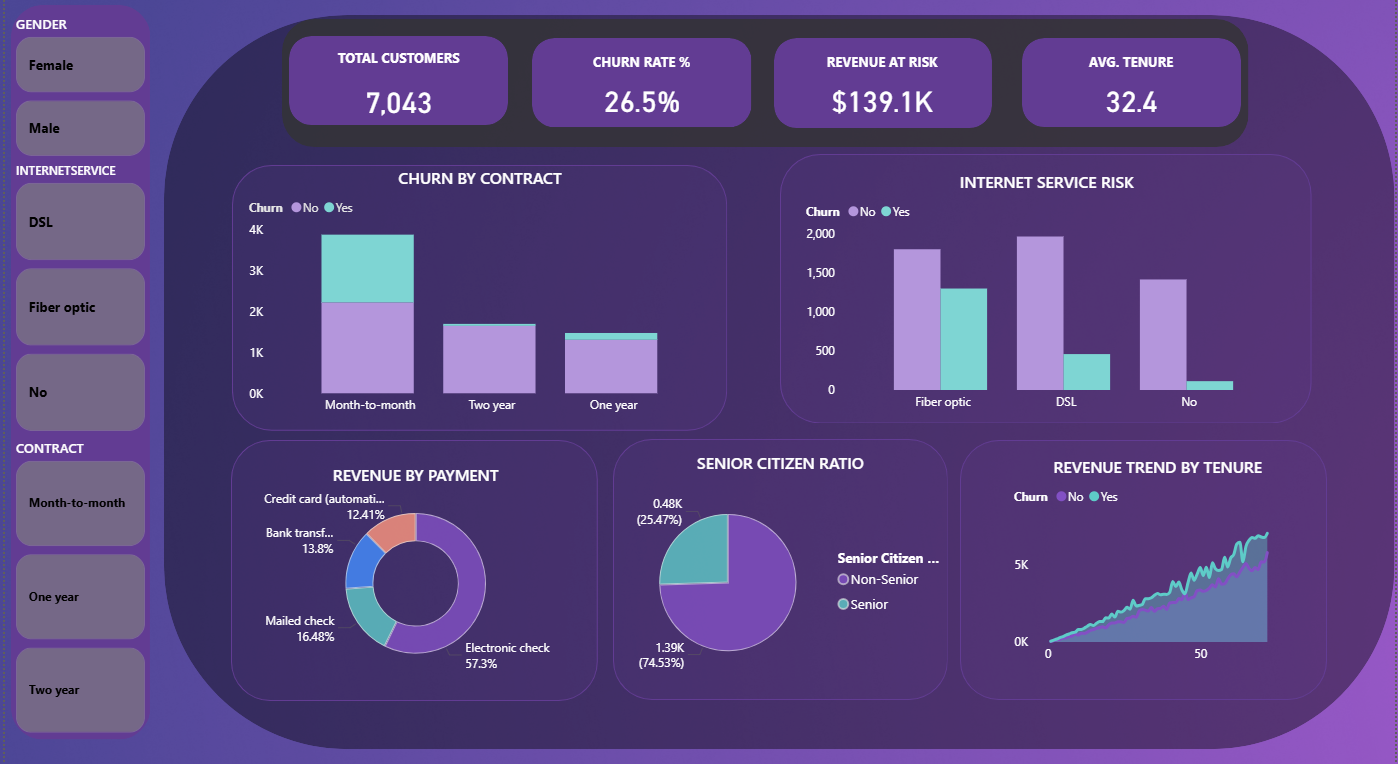

Layout of this report page (visuals, bound fields, positions):
{"tool":"powerbi","page":{"name":"Page 1","canvas":[1400,800],"ordinal":0},"visuals":[{"type":"shape","box":[6.3,14.8,140.4,740.1],"z":0},{"type":"shape","box":[160.2,25.7,1239.8,739.7],"z":1000},{"type":"shape","box":[228.6,176.1,498.9,267.8],"z":1500},{"type":"shape","box":[278.7,29.3,973.8,129],"z":2000},{"type":"shape","box":[962.2,453.4,369.8,262],"z":2062},{"type":"shape","box":[612.6,452.4,337.5,262.9],"z":2125},{"type":"shape","box":[228.1,452.9,369.5,262.9],"z":2250},{"type":"shape","box":[781.3,165.1,535.5,271.4],"z":2500},{"type":"shape","box":[531.4,48.8,221.2,90],"z":3000},{"type":"shape","box":[775,48,219.6,90.8],"z":4000},{"type":"shape","box":[1025,48,220.7,89.7],"z":5000},{"type":"textbox","box":[531.4,58.6,221.2,33.6],"z":6000},{"type":"textbox","box":[774.3,58.6,220.1,29.3],"z":7000},{"type":"card","fields":{"Values":["WA_Fn-UseC_-Telco-Customer-Churn.Churn Rate"]},"box":[531.4,84.6,221.2,53.1],"z":8000},{"type":"card","fields":{"Values":["WA_Fn-UseC_-Telco-Customer-Churn.Revenue at Risk"]},"box":[774.3,84.6,220.1,53.1],"z":9000},{"type":"card","fields":{"Values":["WA_Fn-UseC_-Telco-Customer-Churn.Avg.\\ Tenure"]},"box":[1024.7,84.6,220.7,52.4],"z":10000},{"type":"columnChart","title":"CHURN BY CONTRACT","fields":{"Category":["WA_Fn-UseC_-Telco-Customer-Churn.Contract"],"Y":["Count(WA_Fn-UseC_-Telco-Customer-Churn.customerID)"],"Series":["WA_Fn-UseC_-Telco-Customer-Churn.Churn"]},"box":[240.9,178.5,475.6,258],"z":11000},{"type":"clusteredColumnChart","title":"INTERNET SERVICE RISK","fields":{"Category":["WA_Fn-UseC_-Telco-Customer-Churn.InternetService"],"Y":["Count(WA_Fn-UseC_-Telco-Customer-Churn.customerID)"],"Series":["WA_Fn-UseC_-Telco-Customer-Churn.Churn"]},"box":[802.1,182.2,495.2,250.7],"z":12000},{"type":"donutChart","title":"REVENUE BY PAYMENT","fields":{"Category":["WA_Fn-UseC_-Telco-Customer-Churn.PaymentMethod"],"Y":["Count(WA_Fn-UseC_-Telco-Customer-Churn.customerID)"]},"box":[255.5,477.2,315.7,219.6],"z":13000},{"type":"pieChart","title":"SENIOR CITIZEN RATIO","fields":{"Category":["WA_Fn-UseC_-Telco-Customer-Churn.Senior Citizen Label"],"Y":["Count(WA_Fn-UseC_-Telco-Customer-Churn.customerID)"]},"box":[612.6,465.9,337.5,242.1],"z":14000},{"type":"areaChart","title":"REVENUE TREND BY TENURE","fields":{"Category":["WA_Fn-UseC_-Telco-Customer-Churn.tenure"],"Y":["Avg(WA_Fn-UseC_-Telco-Customer-Churn.TotalCharges)"],"Series":["WA_Fn-UseC_-Telco-Customer-Churn.Churn"]},"box":[1011.5,469.8,299.8,217.5],"z":15000},{"type":"advancedSlicerVisual","title":"GENDER","fields":{"Values":["WA_Fn-UseC_-Telco-Customer-Churn.gender"]},"box":[6.3,25.3,140.4,148.9],"z":16000},{"type":"advancedSlicerVisual","title":"INTERNETSERVICE","fields":{"Values":["WA_Fn-UseC_-Telco-Customer-Churn.InternetService"]},"box":[6.1,173.6,140.6,278.8],"z":17000},{"type":"advancedSlicerVisual","title":"CONTRACT","fields":{"Values":["WA_Fn-UseC_-Telco-Customer-Churn.Contract"]},"box":[6.1,452.4,140.6,302],"z":18000},{"type":"group","id":"g1","title":"Group 1","box":[286.1,46.3,220.7,90.3],"z":24000},{"type":"textbox","box":[1024.8,58,220.1,31.4],"z":24500},{"type":"shape","box":[286.1,46.3,220.7,89.7],"z":25000,"group":"g1"},{"type":"textbox","box":[320.9,54.7,151,35.9],"z":26000,"group":"g1"},{"type":"card","fields":{"Values":["WA_Fn-UseC_-Telco-Customer-Churn.Total Customers"]},"box":[286.9,86.7,219.1,49.9],"z":27000,"group":"g1"}]}

Visuals, with their boxes on the page's 1400x800 design canvas (x1, y1, x2, y2). These are canvas units, not pixel positions in the 1398x764 screenshot, which may show the page scaled, cropped or inside an application window:
shape: detection(6, 15, 147, 755)
shape: detection(160, 26, 1400, 765)
shape: detection(229, 176, 728, 444)
shape: detection(279, 29, 1252, 158)
shape: detection(962, 453, 1332, 715)
shape: detection(613, 452, 950, 715)
shape: detection(228, 453, 598, 716)
shape: detection(781, 165, 1317, 436)
shape: detection(531, 49, 753, 139)
shape: detection(775, 48, 995, 139)
shape: detection(1025, 48, 1246, 138)
textbox: detection(531, 59, 753, 92)
textbox: detection(774, 59, 994, 88)
card - WA_Fn-UseC_-Telco-Customer-Churn.Churn Rate: detection(531, 85, 753, 138)
card - WA_Fn-UseC_-Telco-Customer-Churn.Revenue at Risk: detection(774, 85, 994, 138)
card - WA_Fn-UseC_-Telco-Customer-Churn.Avg.\ Tenure: detection(1025, 85, 1245, 137)
"CHURN BY CONTRACT" columnChart: detection(241, 178, 716, 436)
"INTERNET SERVICE RISK" clusteredColumnChart: detection(802, 182, 1297, 433)
"REVENUE BY PAYMENT" donutChart: detection(256, 477, 571, 697)
"SENIOR CITIZEN RATIO" pieChart: detection(613, 466, 950, 708)
"REVENUE TREND BY TENURE" areaChart: detection(1012, 470, 1311, 687)
"GENDER" advancedSlicerVisual: detection(6, 25, 147, 174)
"INTERNETSERVICE" advancedSlicerVisual: detection(6, 174, 147, 452)
"CONTRACT" advancedSlicerVisual: detection(6, 452, 147, 754)
"Group 1" group: detection(286, 46, 507, 137)
textbox: detection(1025, 58, 1245, 89)
shape: detection(286, 46, 507, 136)
textbox: detection(321, 55, 472, 91)
card - WA_Fn-UseC_-Telco-Customer-Churn.Total Customers: detection(287, 87, 506, 137)
